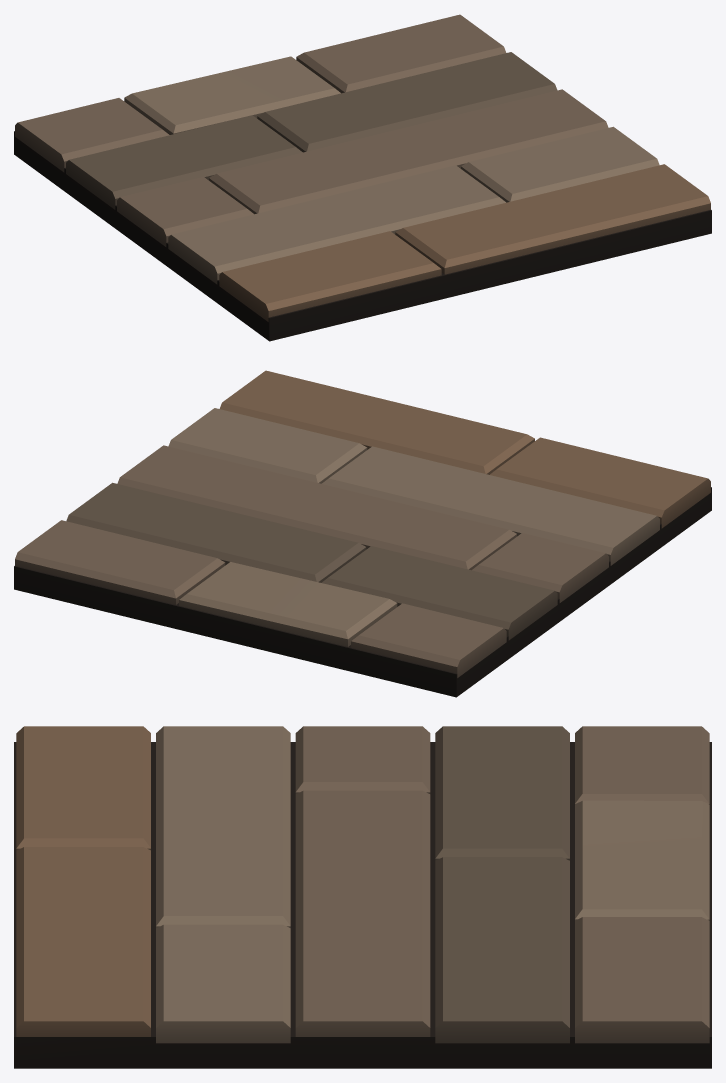
The model's file is floor_planks_rotten_small_C.glb.
3 renders of one model, top to bottom at view 1: azimuth 30°, elevation 25°; view 2: azimuth 150°, elevation 25°; view 3: azimuth 270°, elevation 25°, orthographic. The views are drawn at different scales.
Visible parts, largest first — view 1: Item; view 2: Item; view 3: Item.
Part boxes in pixels (x1,y1,x2,y2): Item: (14,14,711,341); Item: (14,370,711,697); Item: (14,726,711,1068).
Bounding box in the file's own units: 2 × 0.1554 × 2.
Materials: 1 (1 with a texture image).
